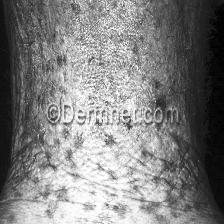Benign Marking or Mole: (49, 0, 163, 107)
